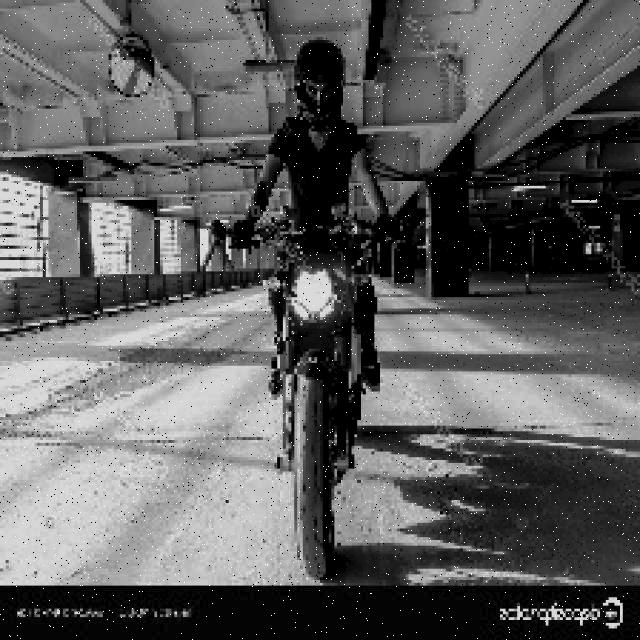Bike: (263, 212, 375, 579)
